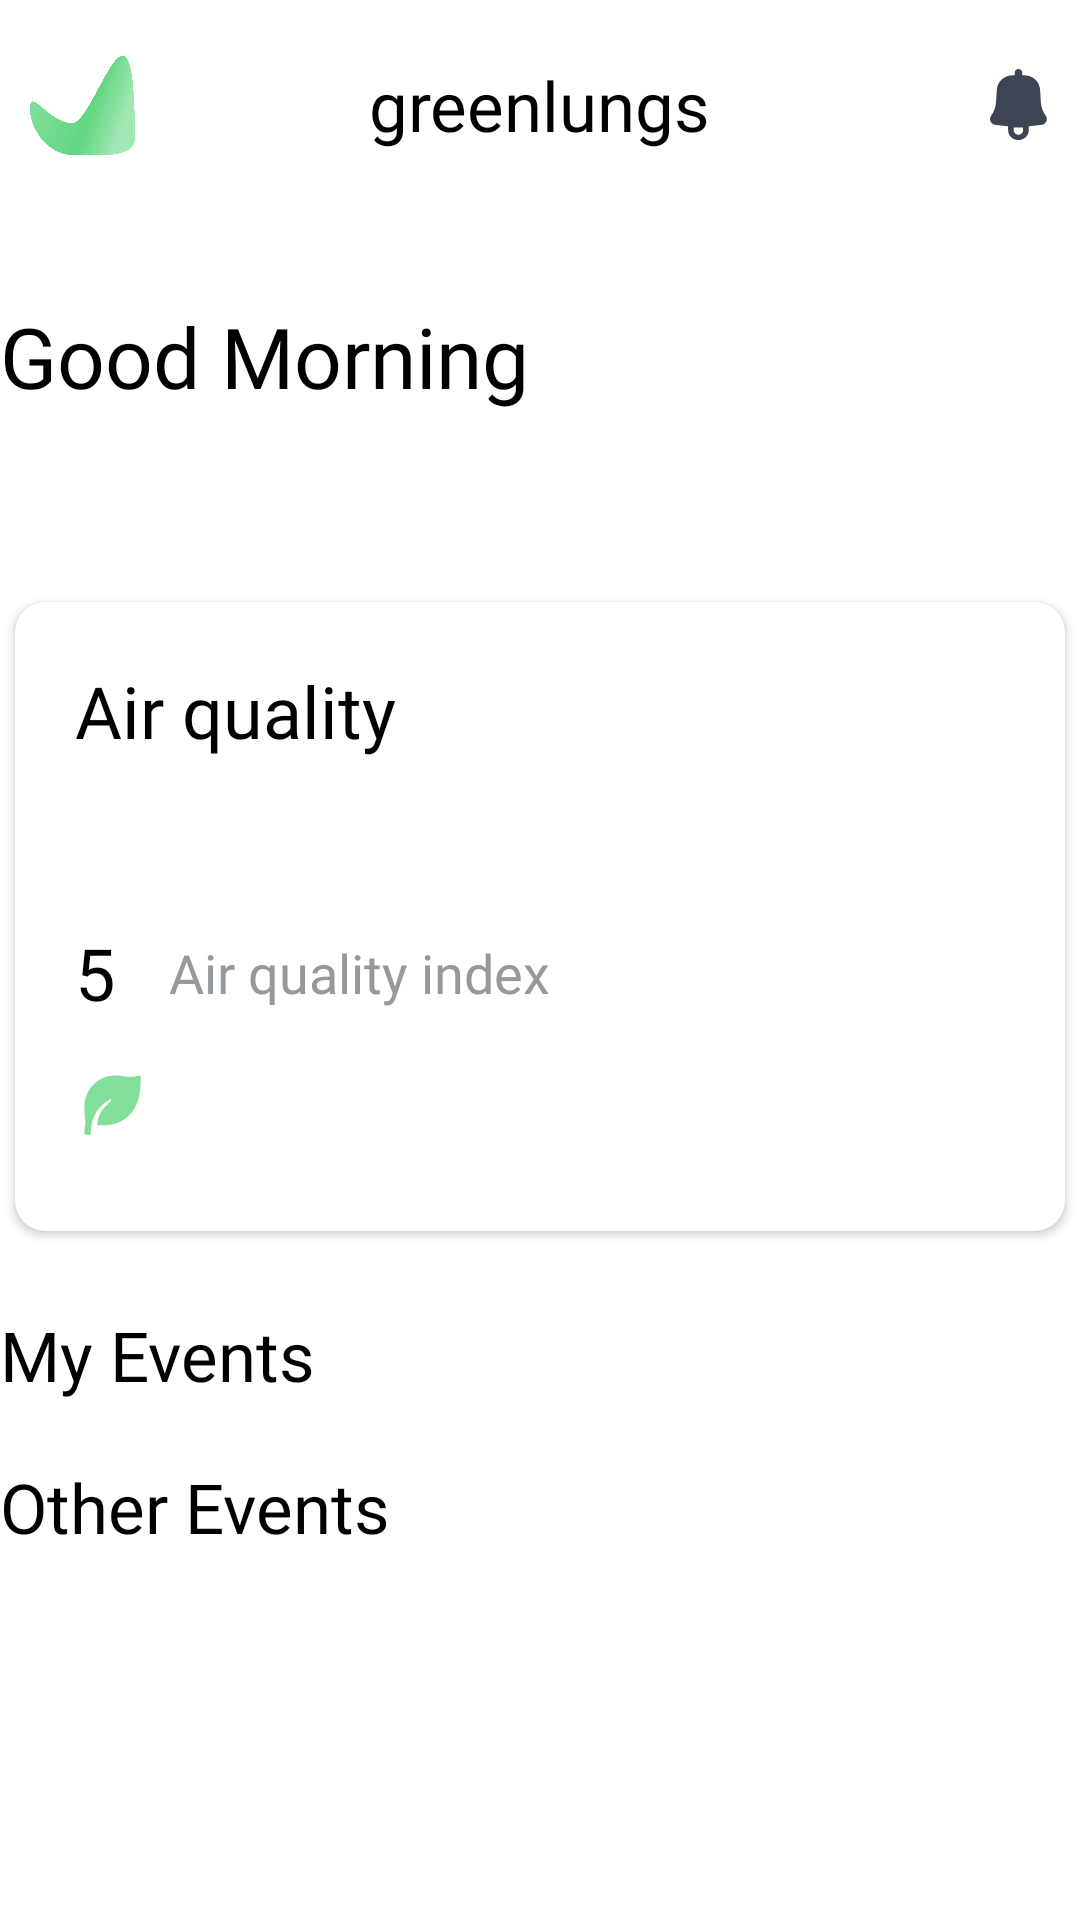

Icon bounding boxes for this 1080 × 1920 phone screenshot, format [x1,y1,x2,y2]:
leaf: [84,1075,141,1135]
notif: [990,69,1047,140]
